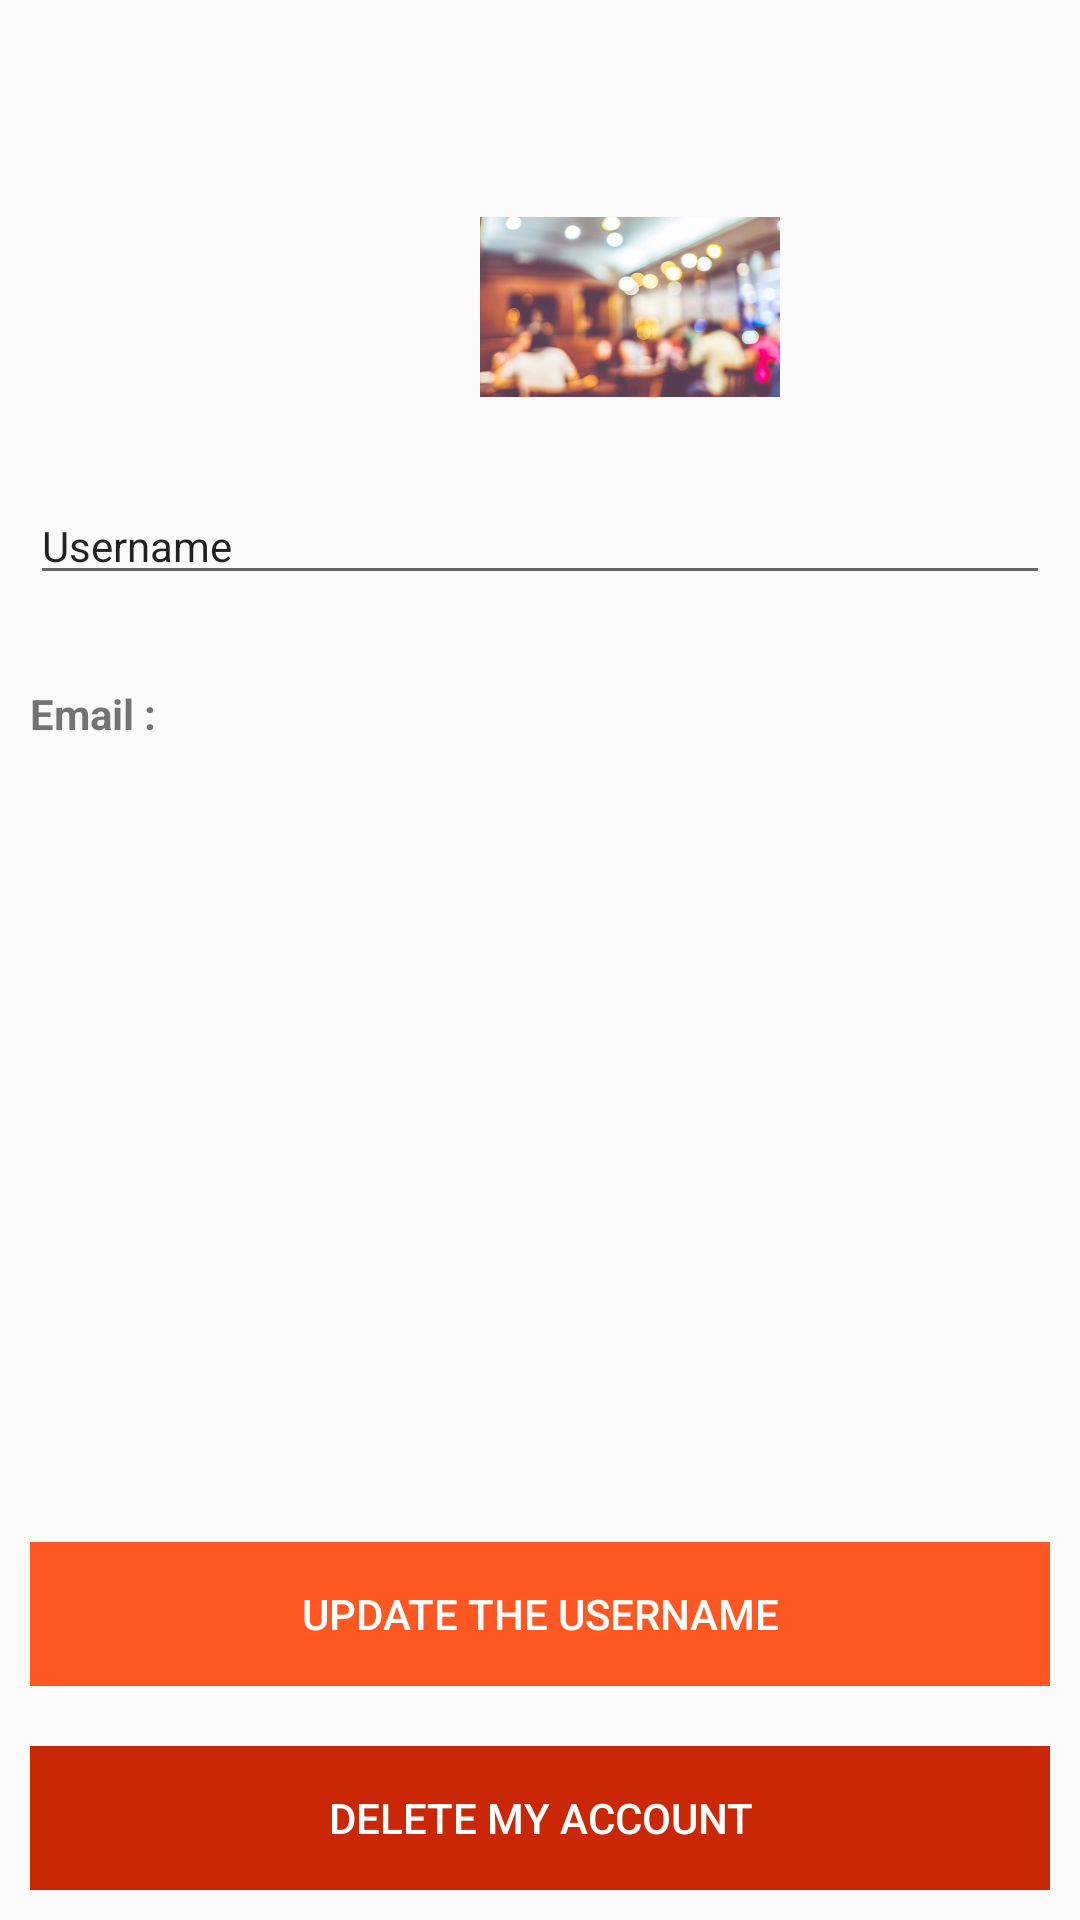

Icon click points for this 1080px×1920px phone screenshot, format (x,y):
blurred restaurant: (630,307)
